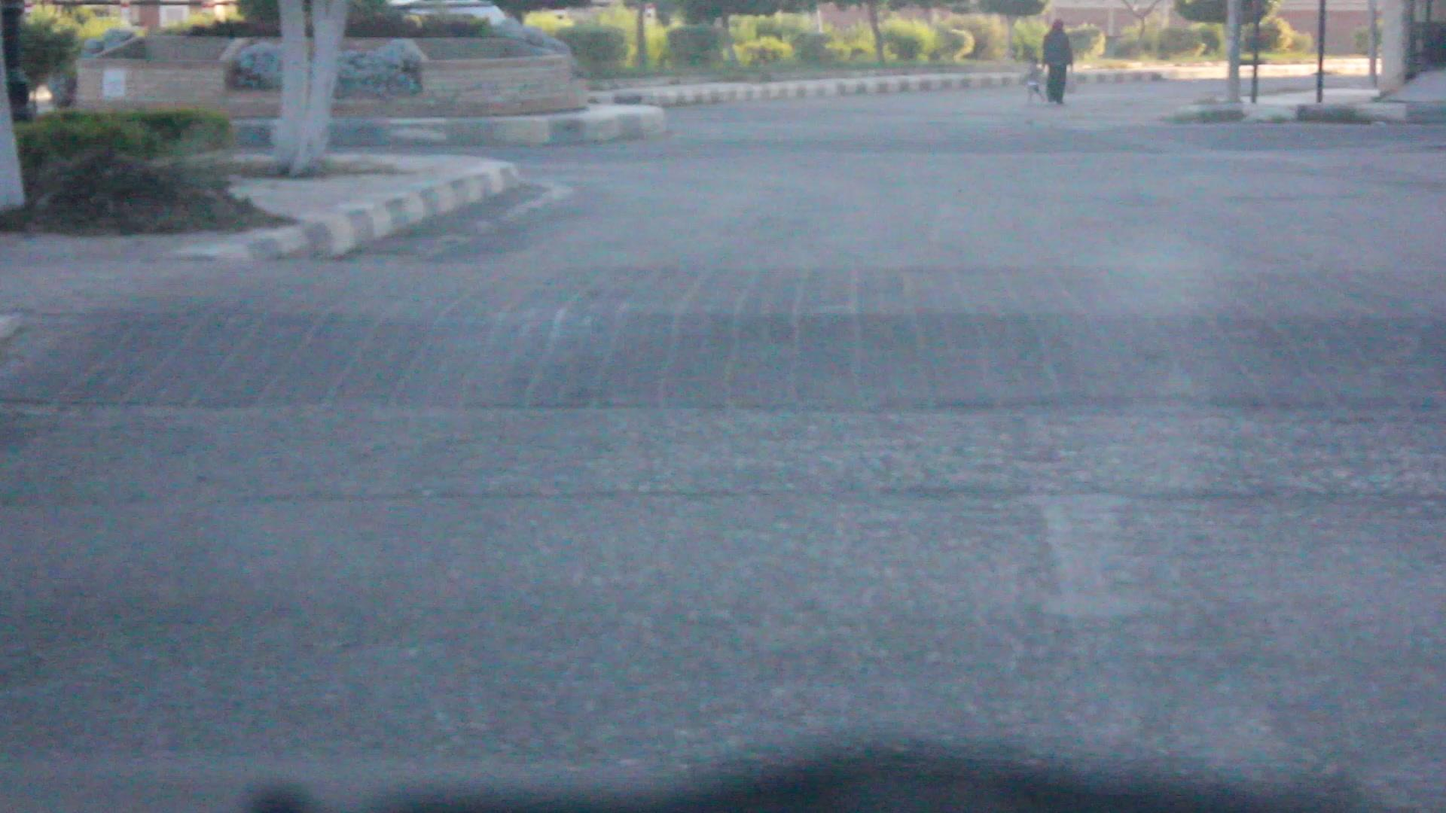Bump: (0, 239, 1446, 412)
